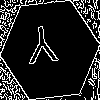Y: (25, 25, 60, 74)
